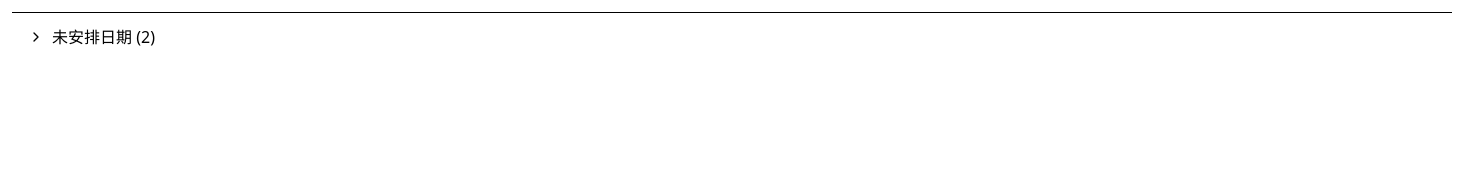
Scenario: UnscheduledTaskList › interactions › should collapse when header is clicked again
Note: Click to expand
Click the button "未安排日期 (2)" at (96, 37), box x1=12 y1=13 x2=1452 y2=61
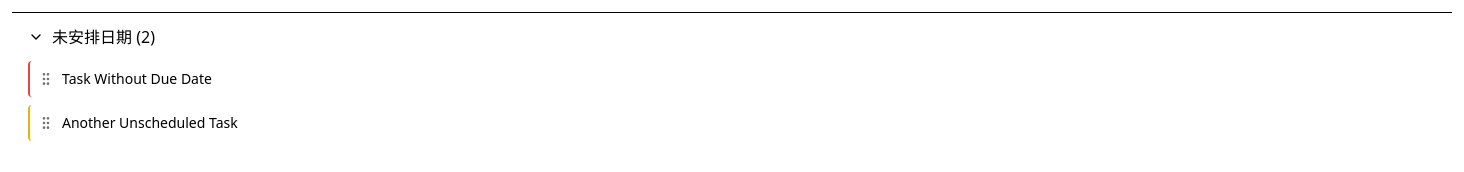
Check: the text "Task Without Due Date" is shown, box x1=62 y1=69 x2=212 y2=88
Note: Click again to collapse
Click the button "未安排日期 (2)" at (96, 37), box x1=12 y1=13 x2=1452 y2=61
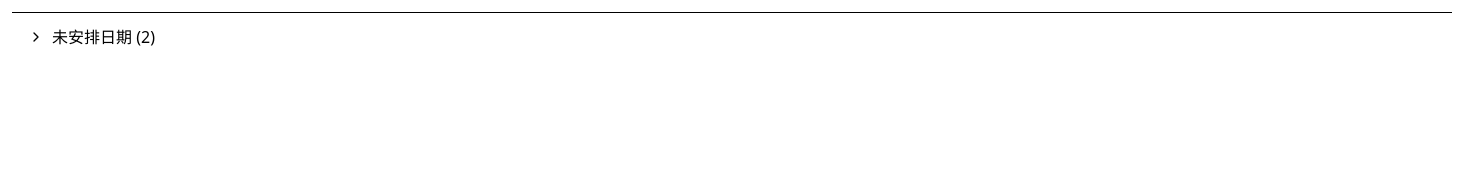
Check: the text "Task Without Due Date" is gone
